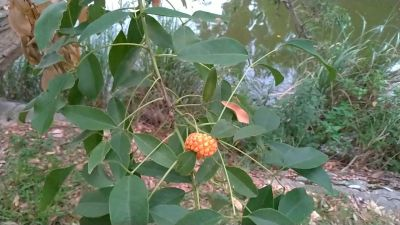eggs: (182, 128, 222, 163)
